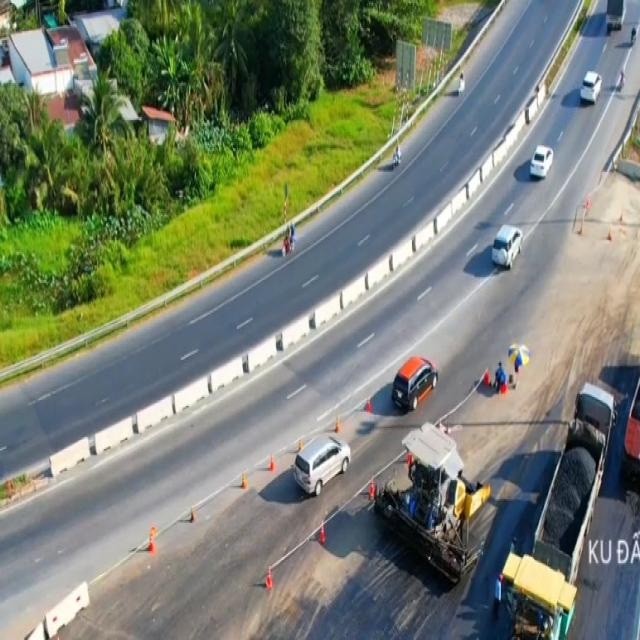car: (296, 431, 354, 492), (390, 354, 440, 410), (492, 222, 523, 270), (531, 144, 554, 179), (581, 69, 602, 107)
truck: (603, 0, 624, 35)
